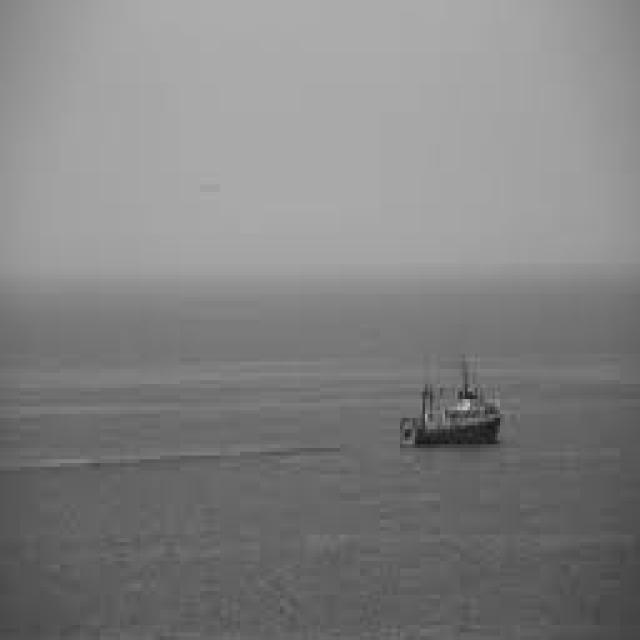fishing boat: (387, 346, 509, 450)
